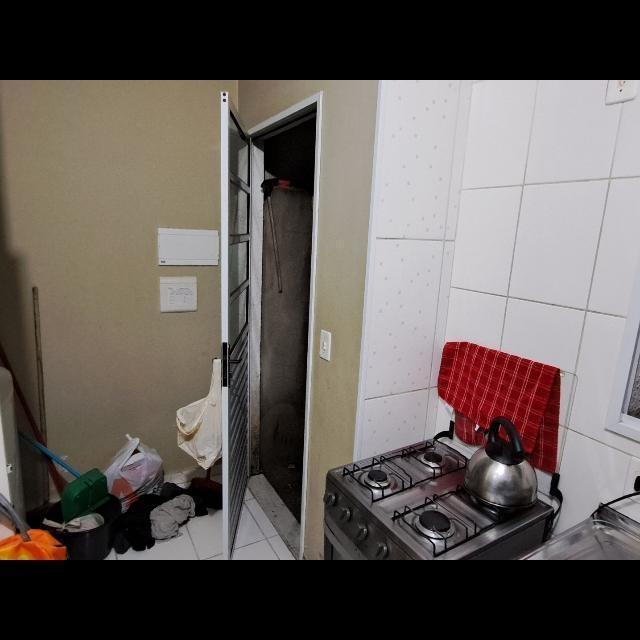door: (210, 89, 256, 560)
